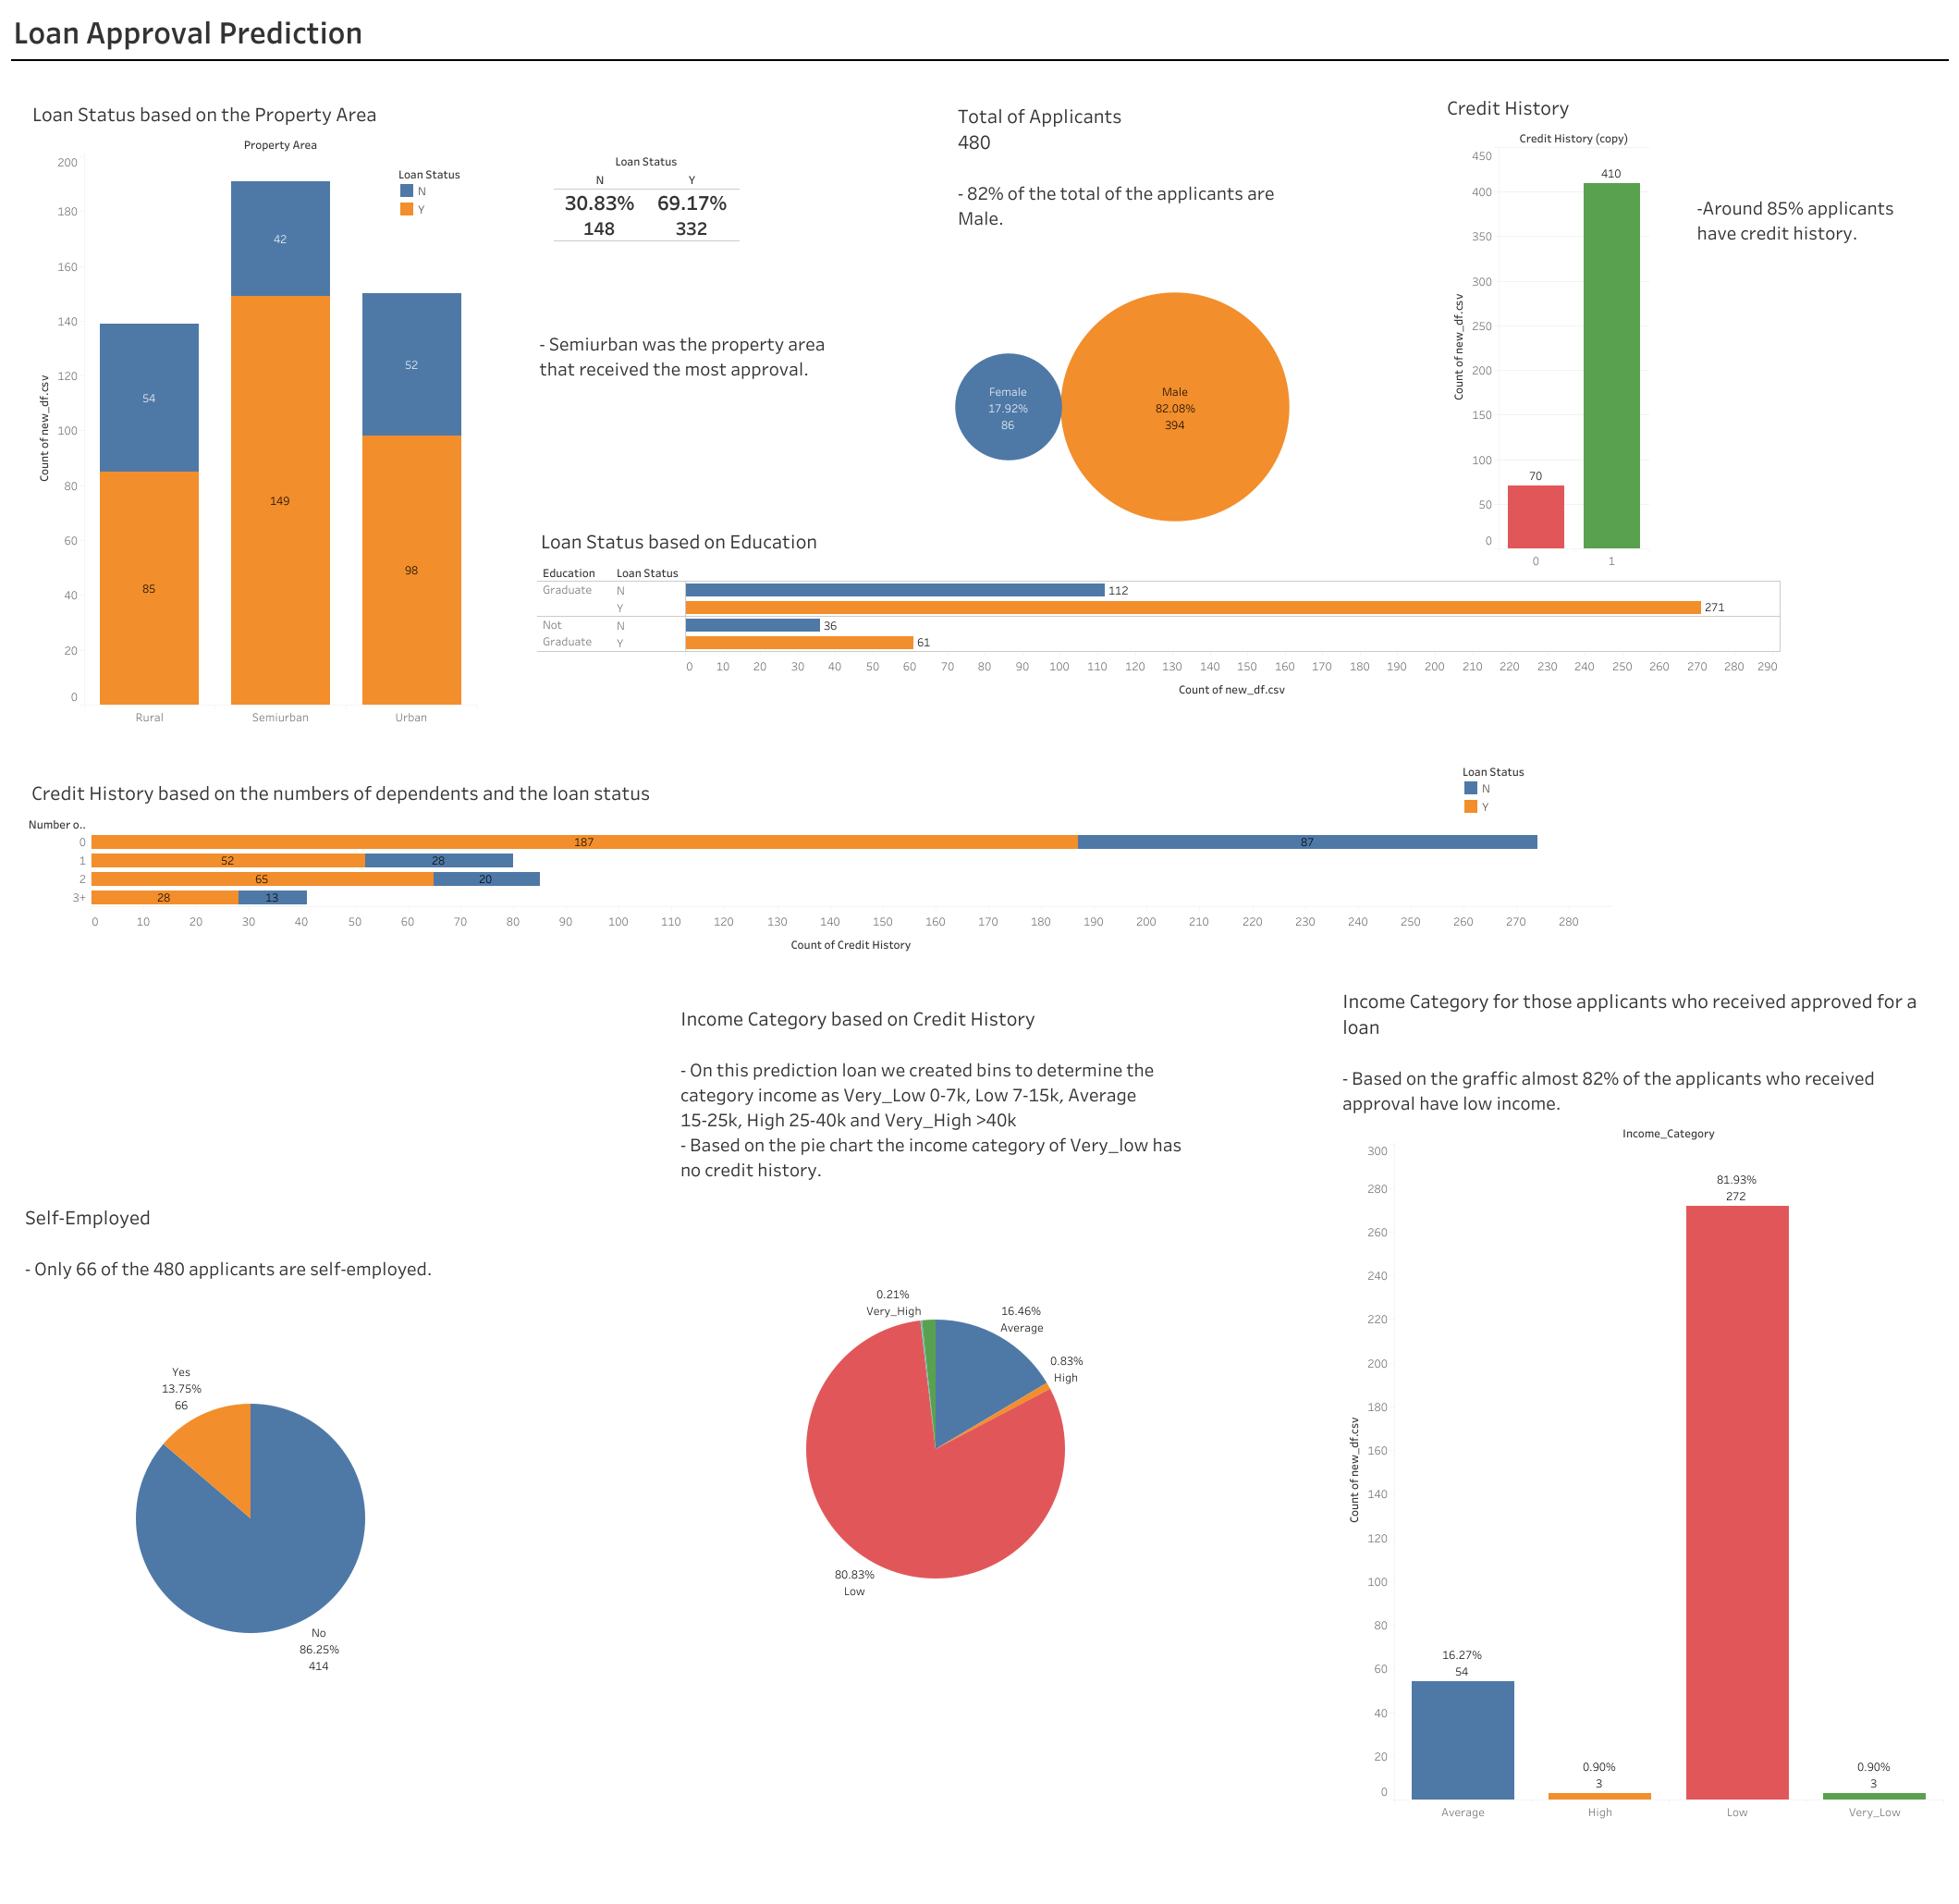

This screenshot's page, from the dashboard's own definition file:
{"tool":"tableau","page":{"name":"Dashboard 1","canvas":[2120,2060],"ordinal":0},"visuals":[{"type":"title","box":[8,8,2104,63]},{"type":"blank","box":[8,71,2104,10]},{"type":"worksheet","title":"Credit History","mark":"Bar","rows":["new_df.csv_9197BE51FEEF4E929ECE2AA59E791517"],"cols":["Credit History (copy)_2579436723927941120"],"box":[1561,96,223,519]},{"type":"worksheet","title":"Loan status vs prop. area","mark":"Automatic","rows":["new_df.csv_9197BE51FEEF4E929ECE2AA59E791517"],"cols":["Property_Area"],"box":[31,103,486,681]},{"type":"worksheet","title":"Gender","mark":"Circle","box":[1032,105,706,516]},{"type":"text","box":[1833,128,243,219]},{"type":"worksheet","title":"Loan Status","mark":"Automatic","cols":["Loan_Status"],"box":[599,149,320,165]},{"type":"legend","title":"Loan status vs prop. area","param":"[federated.1b2kok71nrn71i164xqhq16ssn7t].[none:Loan_Status:nk]","box":[429.5,177,108.2,83]},{"type":"text","box":[581,322,339,126]},{"type":"worksheet","title":"Loan status vs education","mark":"Automatic","rows":["Education","Loan_Status"],"cols":["new_df.csv_9197BE51FEEF4E929ECE2AA59E791517"],"box":[581,565,1345,255]},{"type":"legend","title":"Cred History, dependentes and loan status","param":"[federated.1b2kok71nrn71i164xqhq16ssn7t].[none:Loan_Status:nk]","box":[1581.2,823,168.9,89]},{"type":"worksheet","title":"Cred History, dependentes and loan status","mark":"Automatic","rows":["Number_of_Dependents"],"cols":["Credit_History"],"box":[29.8,837,1713.7,220]},{"type":"worksheet","title":"Applicants who got the loan based on the income category","mark":"Automatic","rows":["new_df.csv_9197BE51FEEF4E929ECE2AA59E791517"],"cols":["Income_Category"],"box":[1447.6,1062,654.8,906]},{"type":"worksheet","title":"Income Category vs Credit History","mark":"Pie","box":[732.1,1081,1093.1,887]},{"type":"worksheet","title":"Self-employed","mark":"Pie","box":[23.2,1296,692.3,668]}]}

Visuals, with their boxes in screenshot pixels (x1, y1, x2, y2), scaled from the page's 2120x2060 canvas onto the 1959x1904 screenshot:
title: bbox=(7, 7, 1952, 66)
blank: bbox=(7, 66, 1952, 75)
"Credit History" worksheet (Bar marks): bbox=(1442, 89, 1648, 569)
"Loan status vs prop. area" worksheet: bbox=(29, 95, 478, 725)
"Gender" worksheet (Circle marks): bbox=(954, 97, 1606, 574)
text: bbox=(1694, 118, 1918, 321)
"Loan Status" worksheet: bbox=(554, 138, 850, 290)
"Loan status vs prop. area" legend: bbox=(397, 164, 496, 240)
text: bbox=(537, 298, 851, 414)
"Loan status vs education" worksheet: bbox=(537, 522, 1780, 758)
"Cred History, dependentes and loan status" legend: bbox=(1461, 761, 1617, 843)
"Cred History, dependentes and loan status" worksheet: bbox=(28, 774, 1611, 977)
"Applicants who got the loan based on the income category" worksheet: bbox=(1338, 981, 1942, 1819)
"Income Category vs Credit History" worksheet (Pie marks): bbox=(677, 999, 1686, 1819)
"Self-employed" worksheet (Pie marks): bbox=(21, 1198, 661, 1815)
